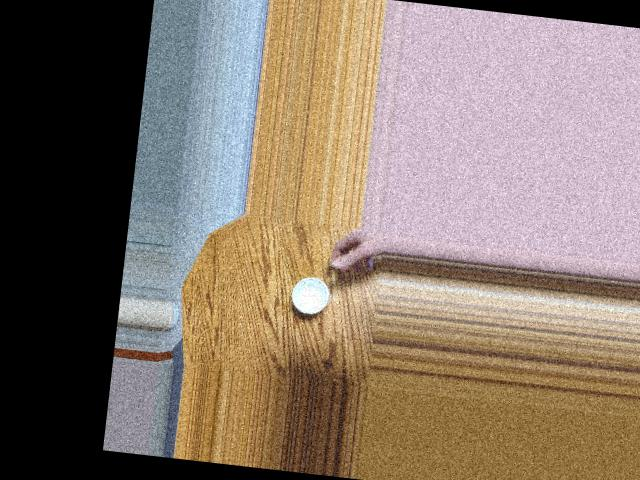cotage: (290, 271, 336, 314)
